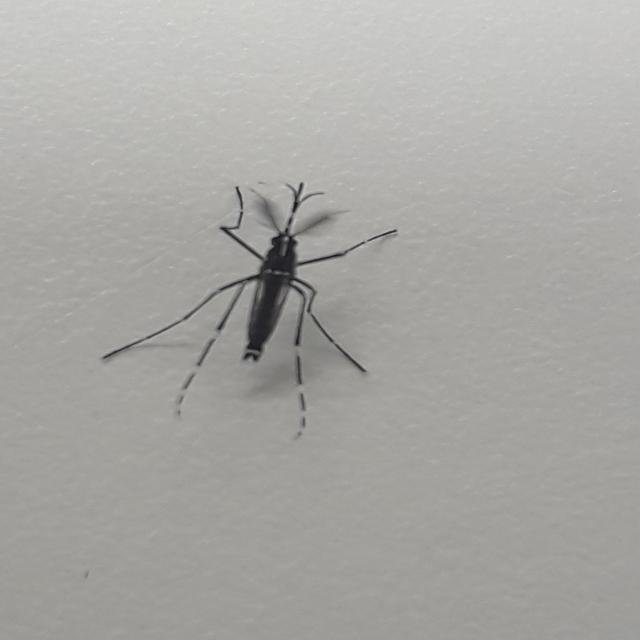albopictus: (95, 174, 393, 438)
